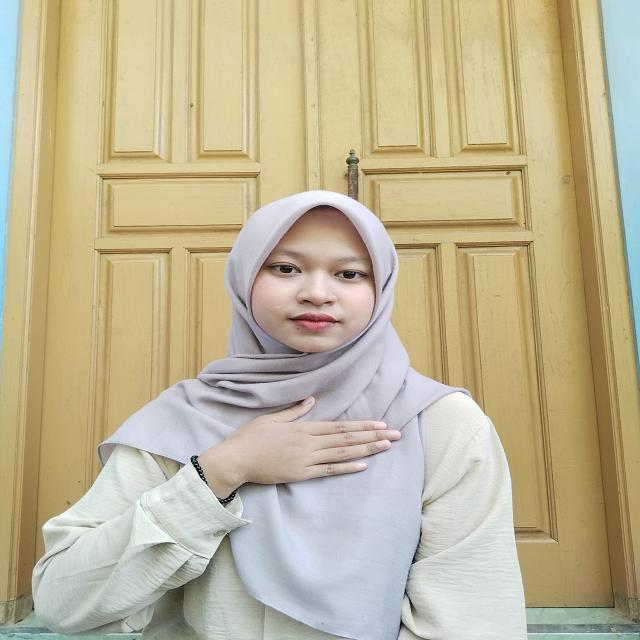tolong: (160, 389, 402, 522)
